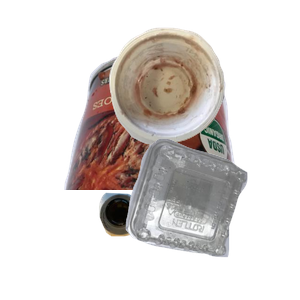glass: (96, 190, 230, 300)
metal: (62, 47, 300, 227)
plastic: (123, 136, 300, 300)
trash: (107, 25, 300, 162)
